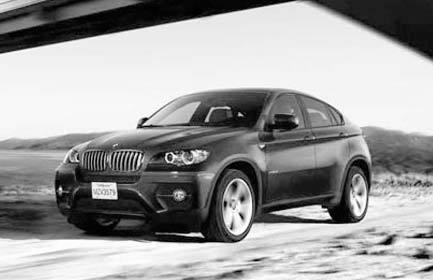car: (52, 88, 373, 248)
